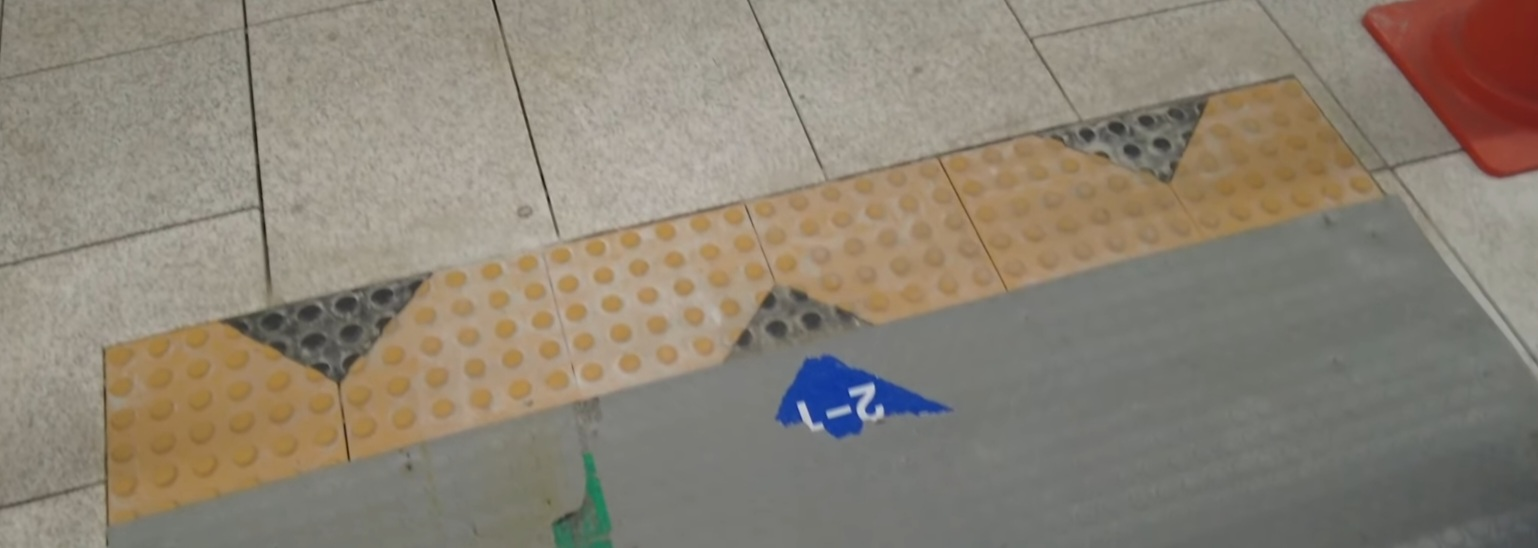warningBlock: (331, 284, 566, 421), (555, 218, 755, 361), (110, 341, 320, 468), (964, 130, 1174, 253), (770, 192, 977, 306), (1172, 98, 1345, 206)
